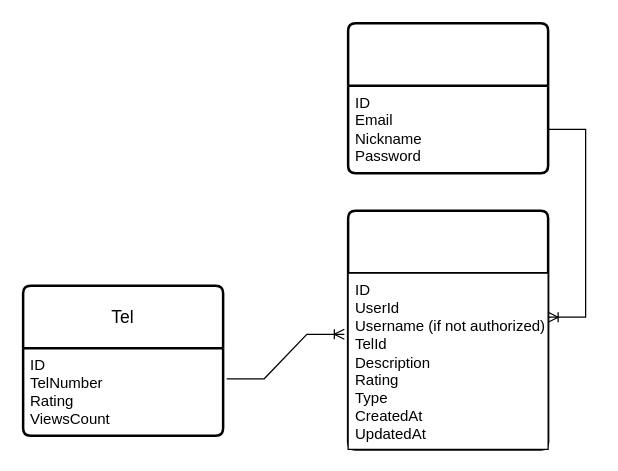
Some shapes in this 618 by 471 pixel diagram are drawn without their labels. Here are the shapes that lost their labels. From the top down, the box of each, then its label:
(346, 21, 549, 174): User
(346, 209, 549, 450): Comment
